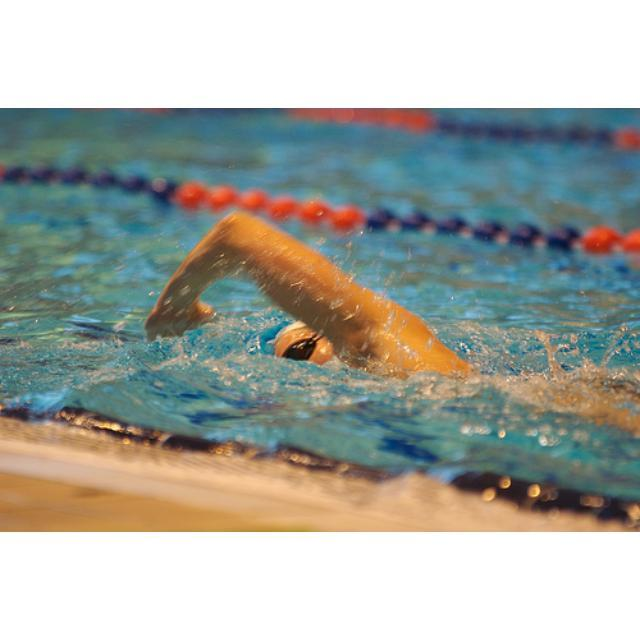human: (140, 209, 494, 392)
